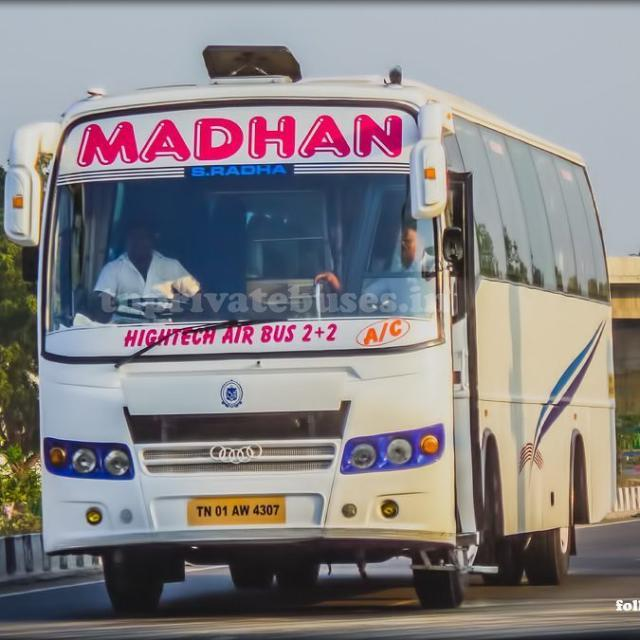Bus: (3, 39, 622, 612)
